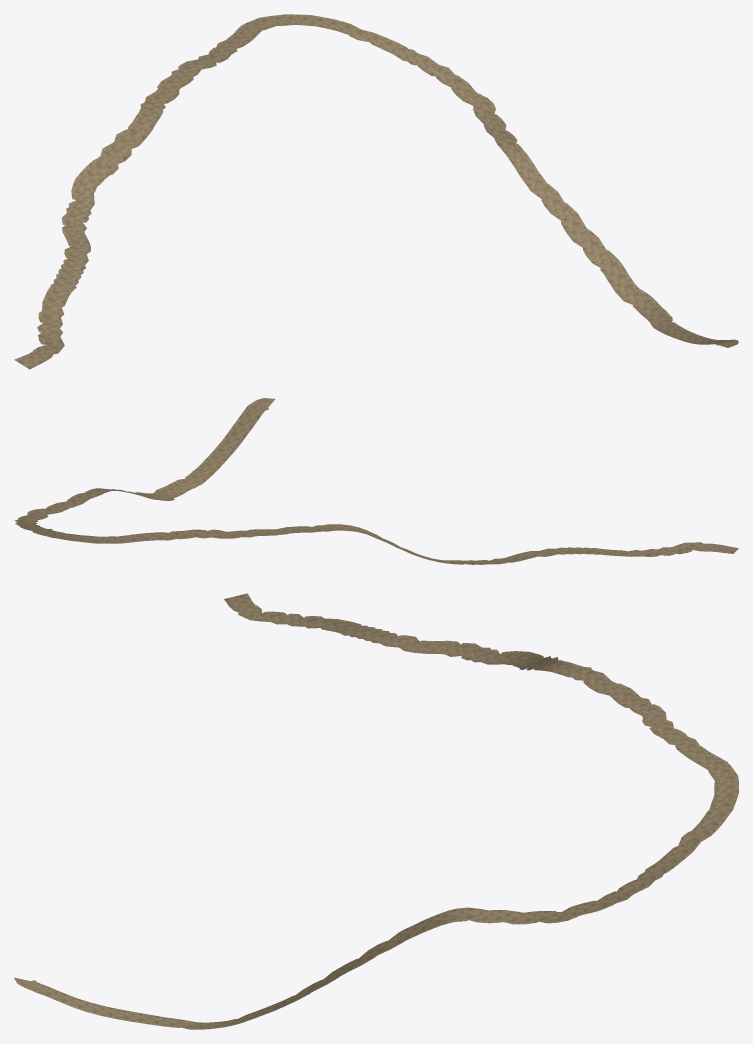
File: RD-ROAD-028.obj
3 renders of one model, top to bottom at view 1: azimuth 30°, elevation 25°; view 2: azimuth 150°, elevation 25°; view 3: azimuth 270°, elevation 25°, orthographic. The views are drawn at different scales.
Visible parts, largest first — view 1: RD-ROAD-028; view 2: RD-ROAD-028; view 3: RD-ROAD-028.
Part boxes in pixels (x1,y1,x2,y2): RD-ROAD-028: (14, 14, 738, 369); RD-ROAD-028: (14, 398, 738, 564); RD-ROAD-028: (14, 593, 738, 1029).
Size of the model in its own units: 129 by 32.43 by 118.
Materials: 1 (1 with a texture image).
